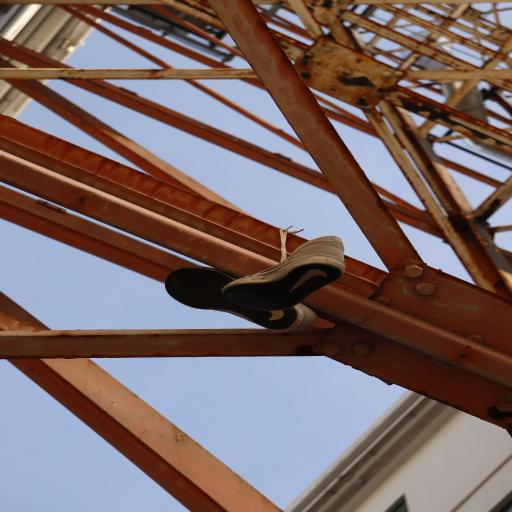shoe: (166, 268, 317, 330), (223, 236, 345, 310)
